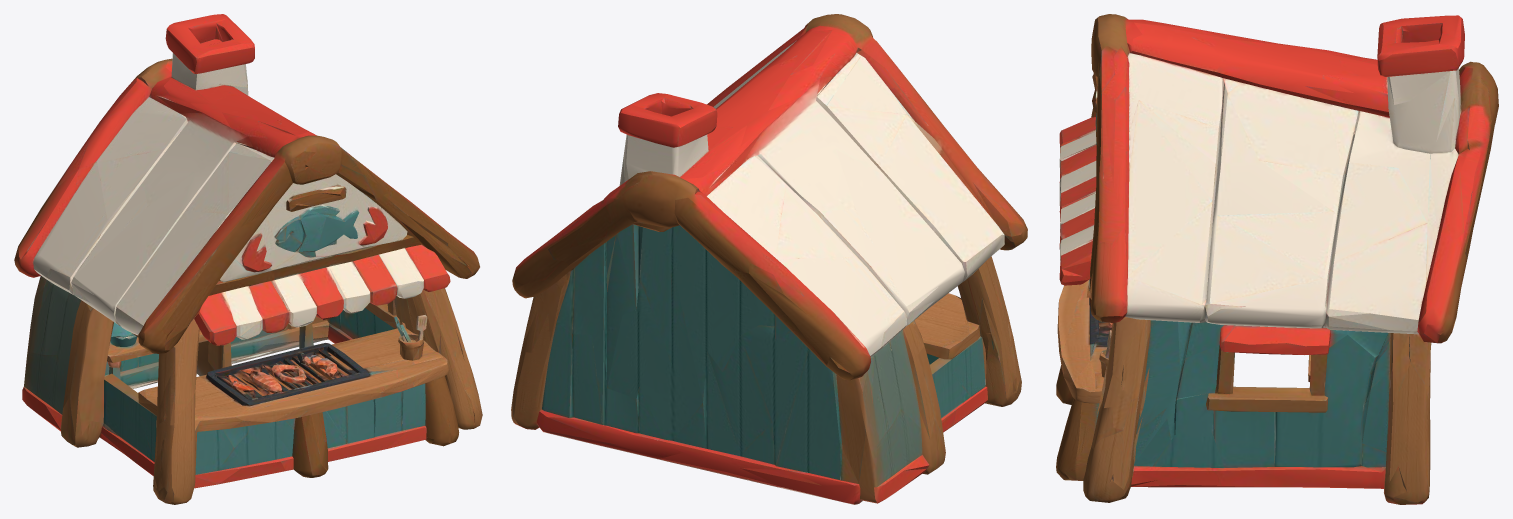
Rendered from grillHut.glb.
The picture shows the model from 3 angles, left to right: view 1: azimuth 30°, elevation 25°; view 2: azimuth 150°, elevation 25°; view 3: azimuth 270°, elevation 25°; orthographic projection. The views are drawn at different scales.
Parts seen in each view (by area): view 1: Mesh_0; view 2: Mesh_0; view 3: Mesh_0.
Part boxes in pixels (x1,y1,x2,y2): Mesh_0: (14,14,482,504); Mesh_0: (511,14,1027,504); Mesh_0: (1056,14,1498,504).
Bounding box in the file's own units: 2.8 × 2.56 × 2.6.
1 material, 1 textured.
